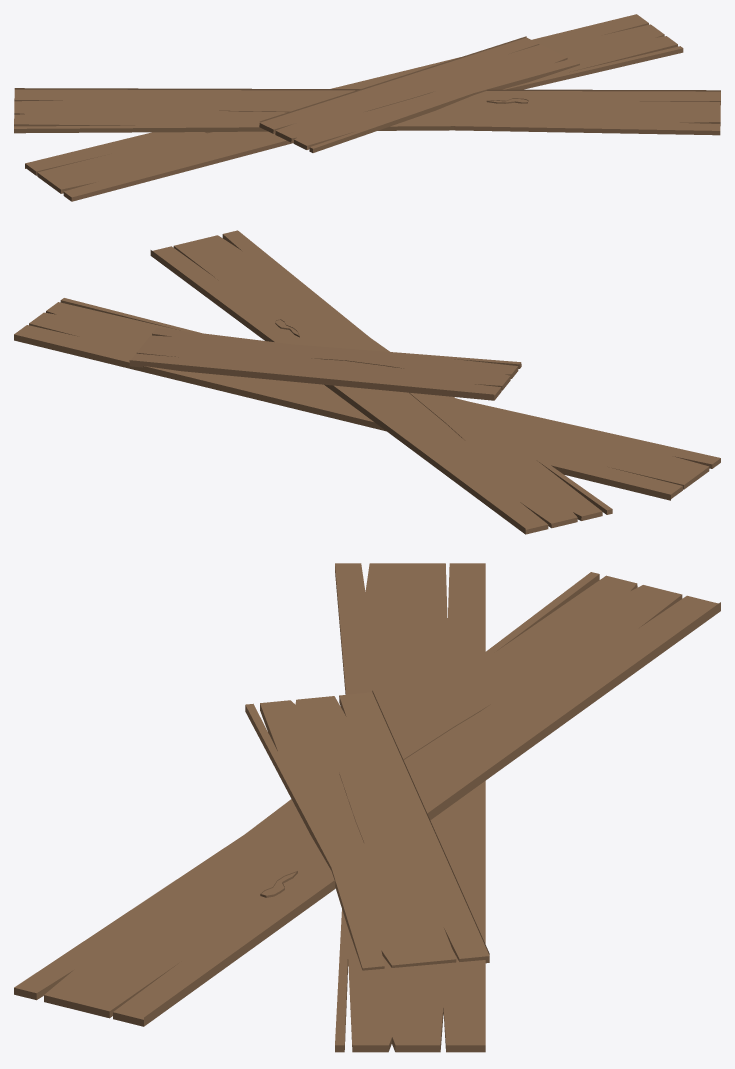
File: planches.fbx
The picture shows the model from 3 angles, top to bottom: view 1: azimuth 30°, elevation 25°; view 2: azimuth 150°, elevation 25°; view 3: azimuth 270°, elevation 25°; orthographic projection. The views are drawn at different scales.
Parts seen in each view (by area): view 1: Cube.001, Cube, Cube.002; view 2: Cube.001, Cube, Cube.002; view 3: Cube.001, Cube, Cube.002.
Boxes of the visible parts, box(x1,y1,x2,y2) form: Cube.001: box(14, 88, 720, 135); Cube: box(25, 14, 683, 201); Cube.002: box(259, 36, 579, 152); Cube.001: box(150, 230, 612, 534); Cube: box(14, 298, 720, 500); Cube.002: box(129, 328, 521, 400); Cube.001: box(14, 572, 720, 1026); Cube: box(335, 563, 485, 1052); Cube.002: box(245, 690, 489, 970).
Bounding box in the file's own units: 1515 × 58.16 × 939.
